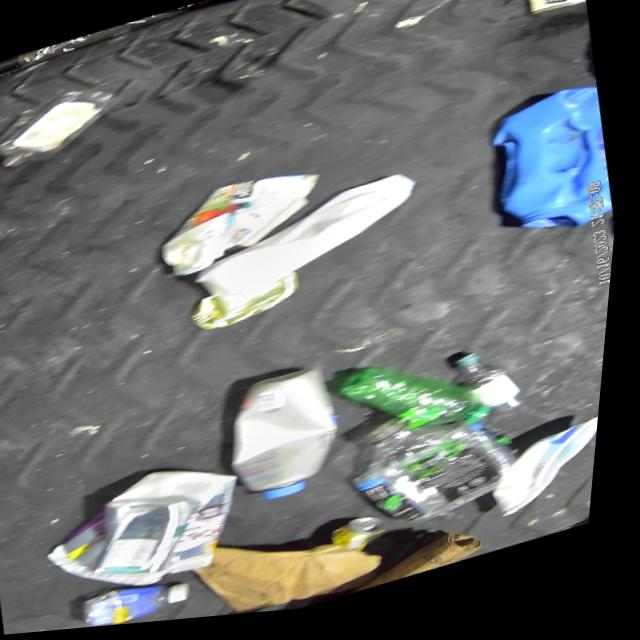can: (190, 271, 314, 342), (332, 514, 405, 566), (518, 0, 590, 31)
non_white_jug: (185, 170, 442, 330), (477, 85, 628, 260)
plastic_bottle: (344, 390, 538, 550), (455, 342, 543, 435)
